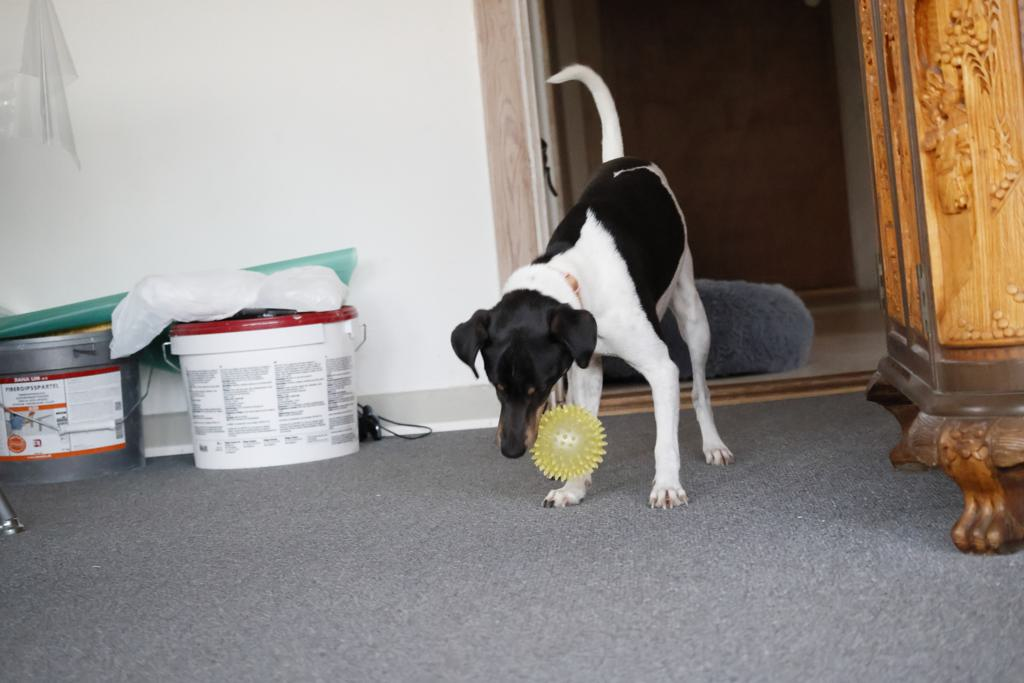Dog: (442, 56, 745, 515)
